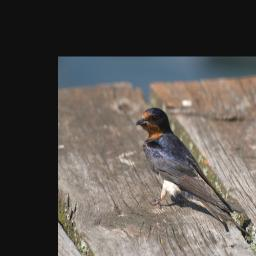Swallow: (135, 106, 252, 239)
